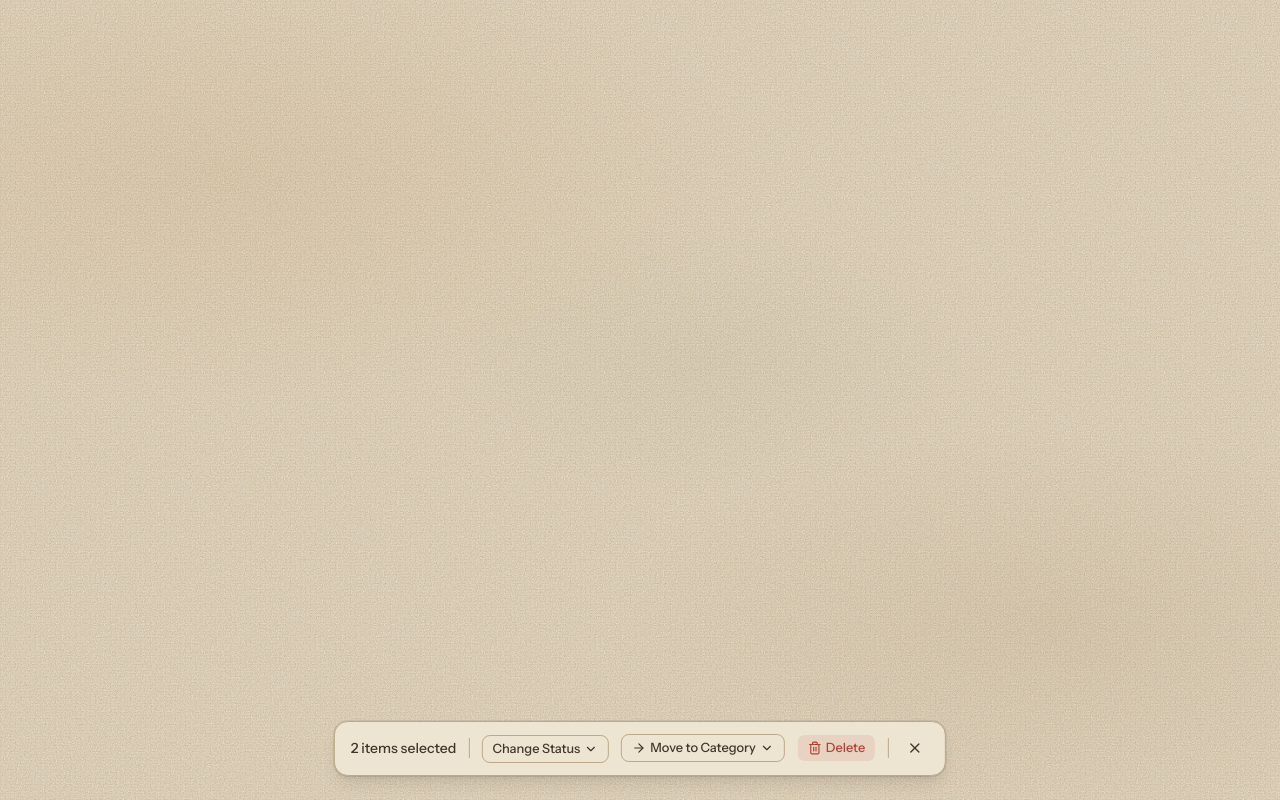
Test: BulkActionBar › opens category menu when Move to Category button is clicked
What coordinates should you click on to do the following:
click the button "Move to Category"
I would click on:
 (703, 748)
Its box is [621, 734, 785, 762].
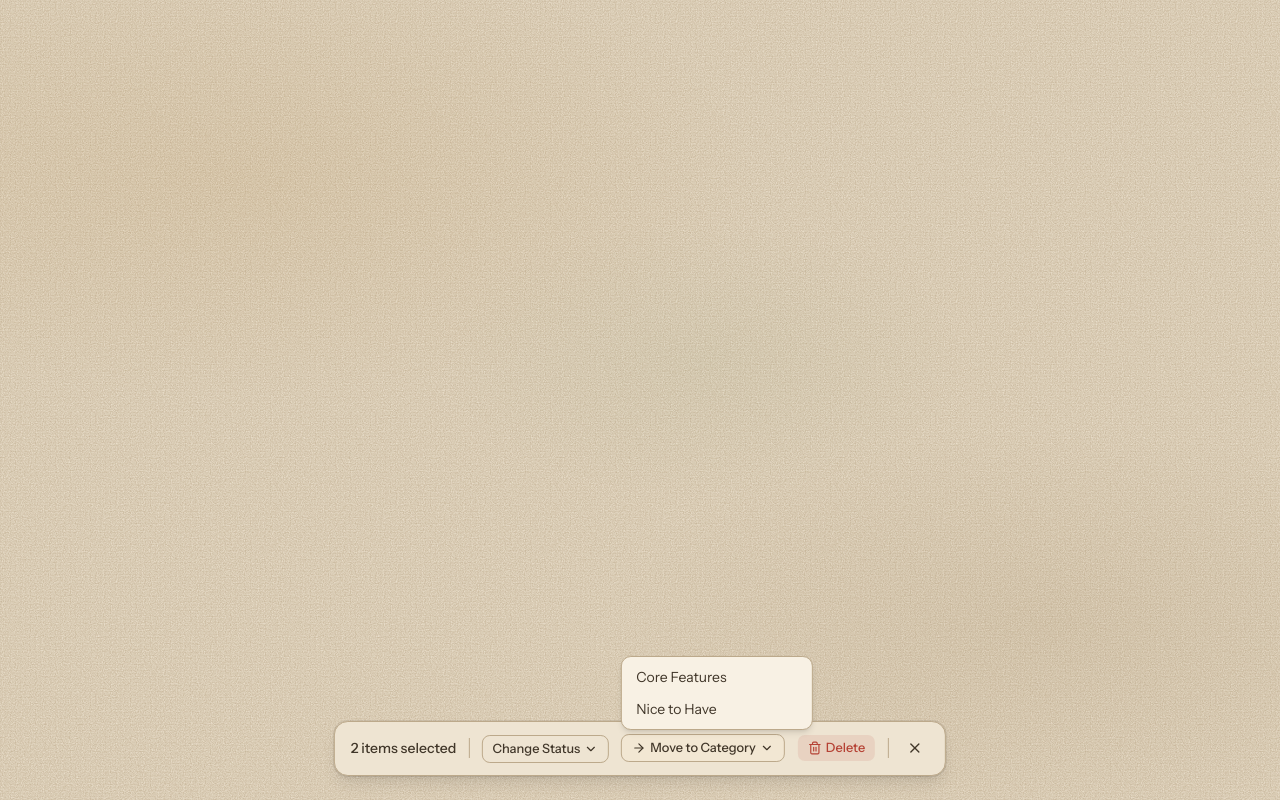
Check: the menu is shown, box [621, 656, 813, 730]
Check: the menu item "Core Features" is shown, box [626, 661, 808, 693]
Check: the menu item "Nice to Have" is shown, box [626, 693, 808, 725]
